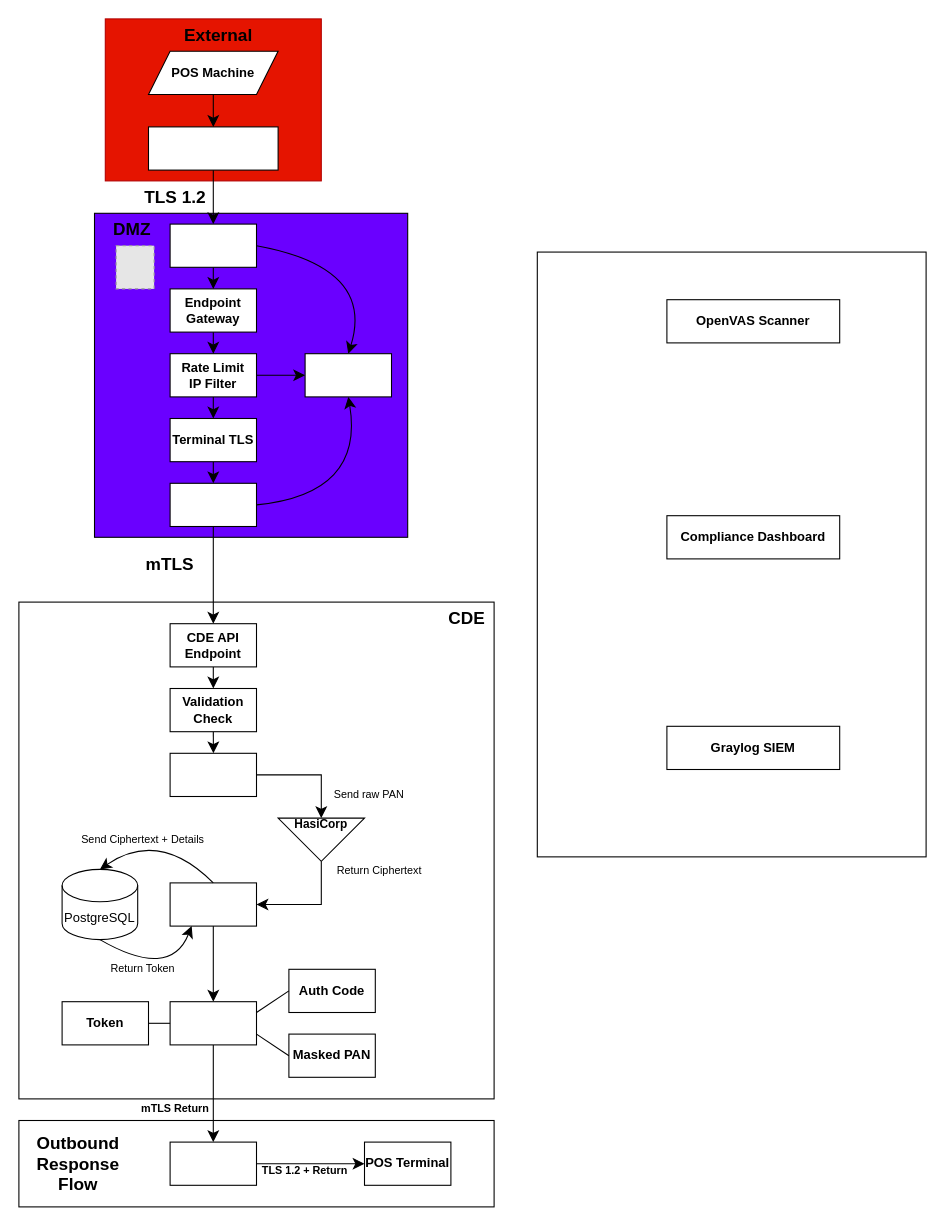
Image size: 945x1226. Some labels were removed from this diagram. Grey dashed boxes stand in for pictures. The shapes that lost their labels are listed below. From the top down, each one's box as (x1, y1, x2, y2) in pixels, then its label:
(147, 126, 278, 170): Extract Raw Card Data
(169, 223, 256, 267): Network IDS
(304, 353, 392, 397): rsyslog Agent
(169, 482, 256, 526): Reverse Proxy
(169, 752, 256, 796): STRIPS CVV
(169, 882, 256, 926): Core
(169, 1001, 256, 1045): Safe Payload
(169, 1141, 256, 1185): DMZ Gateway
